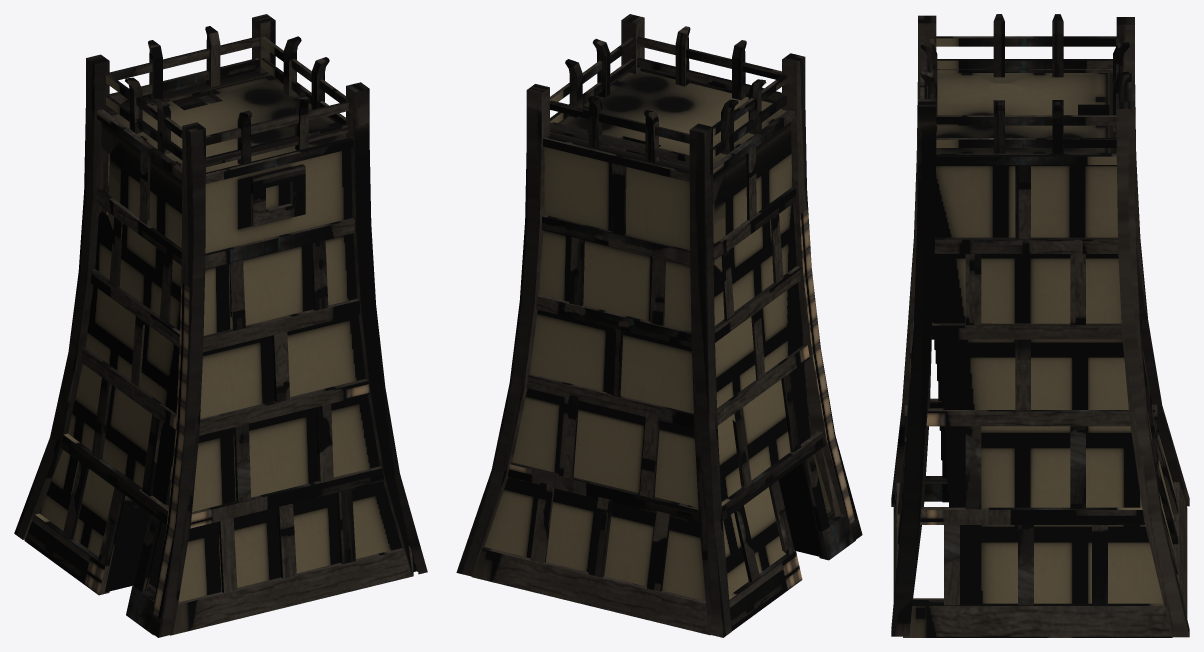
File: MS_Windmill.fbx
The picture shows the model from 3 angles, left to right: view 1: azimuth 30°, elevation 25°; view 2: azimuth 150°, elevation 25°; view 3: azimuth 270°, elevation 25°; orthographic projection. The views are drawn at different scales.
Visible parts, largest first — view 1: Cube.005; view 2: Cube.005; view 3: Cube.005.
Boxes of the visible parts, box(x1,y1,x2,y2) form: Cube.005: box(14, 14, 427, 637); Cube.005: box(456, 14, 862, 637); Cube.005: box(891, 14, 1189, 637).
Bounding box in the file's own units: 835 × 1439 × 760.
Materials: 1 (1 with a texture image).
